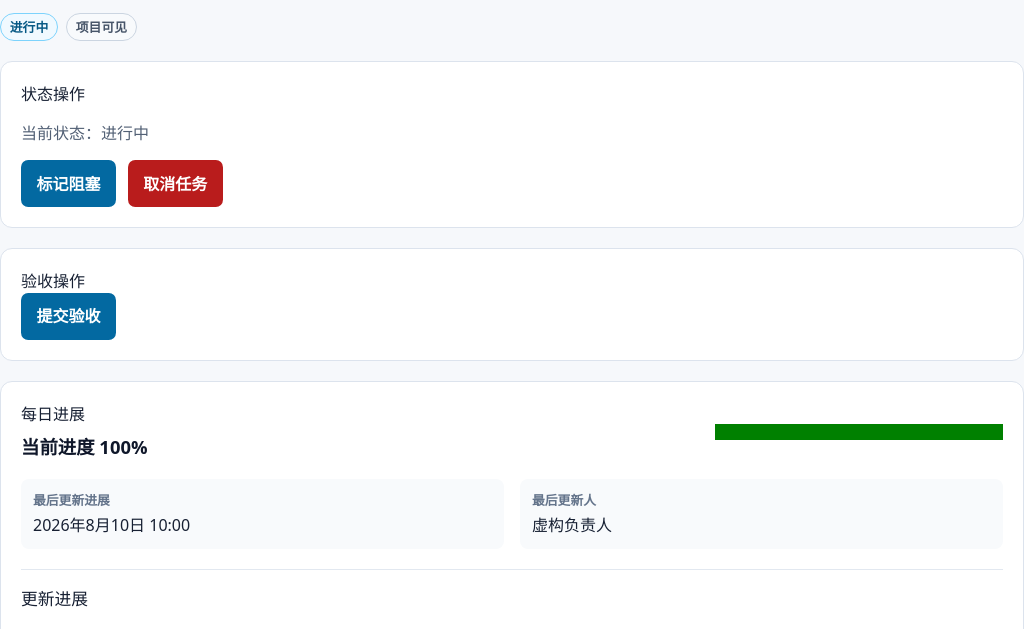
Test: 任务页面 › submits a 100% in-progress task and refreshes to the linked pending-review ledger
The image size is (1024, 629).
Click the button "提交验收".
click(68, 316)  # box [21,293,116,340]
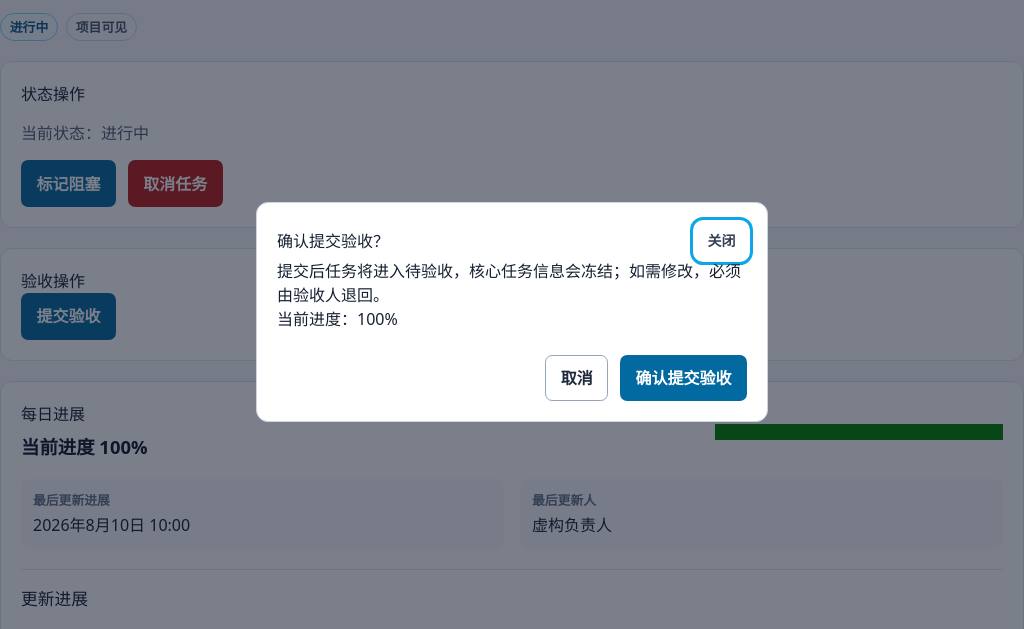
Now the heading "确认提交验收？" is shown, box [277,229,389,253]
Click the button "确认提交验收".
click(684, 378)  # box [620,355,747,401]
(page scrolled)
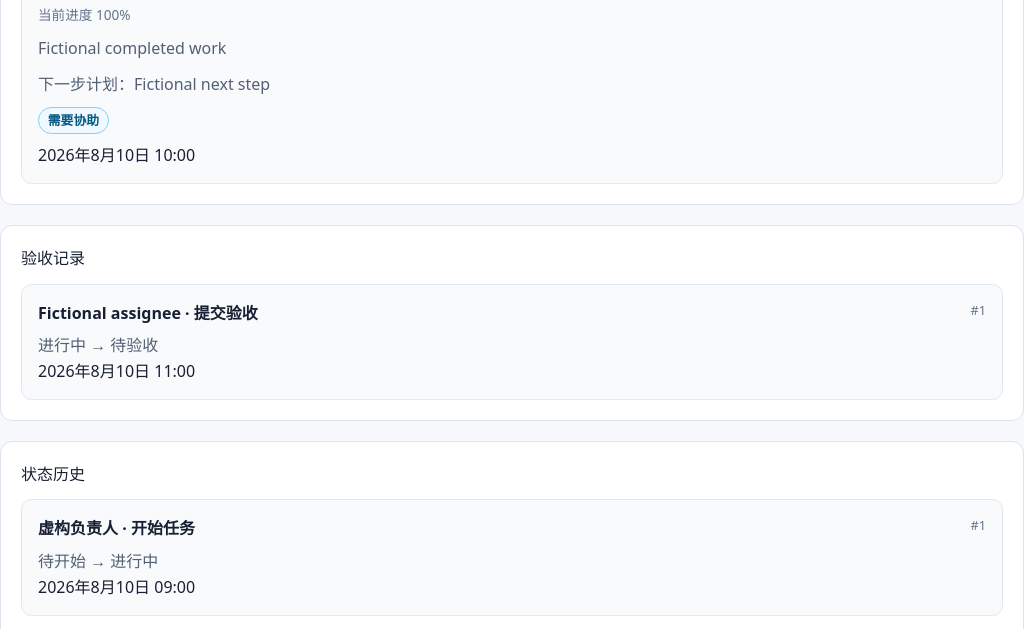
Now the text "Fictional assignee · 提交验收" is shown, box [38,300,258,324]
